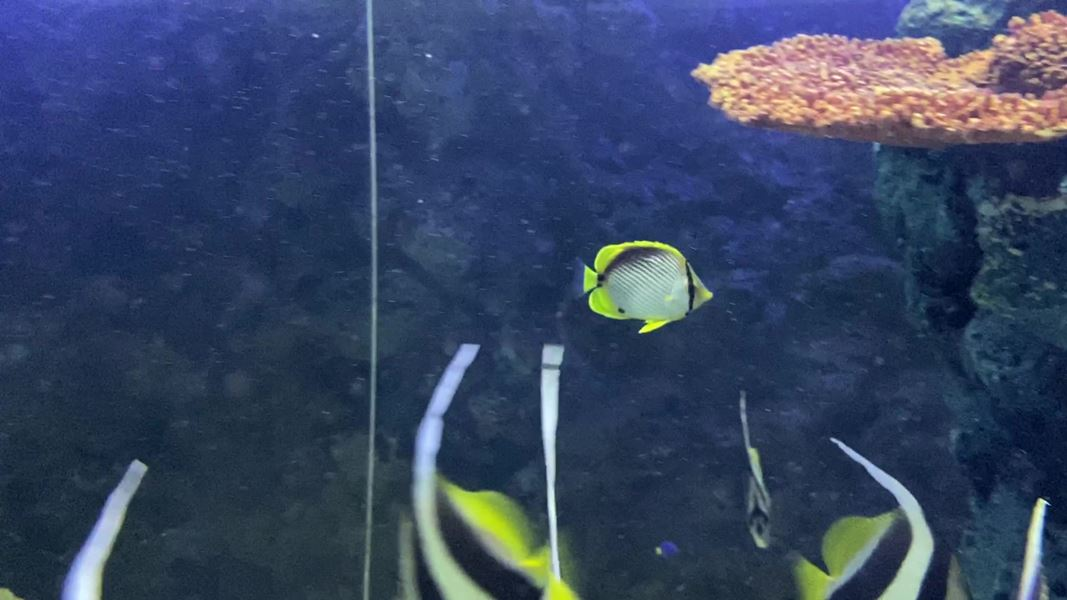Black-backed butterflyfish: (564, 232, 724, 342)
